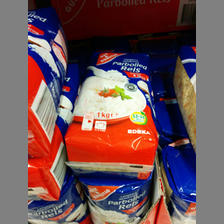rice: (65, 51, 159, 179), (28, 7, 66, 156), (78, 174, 156, 223)
